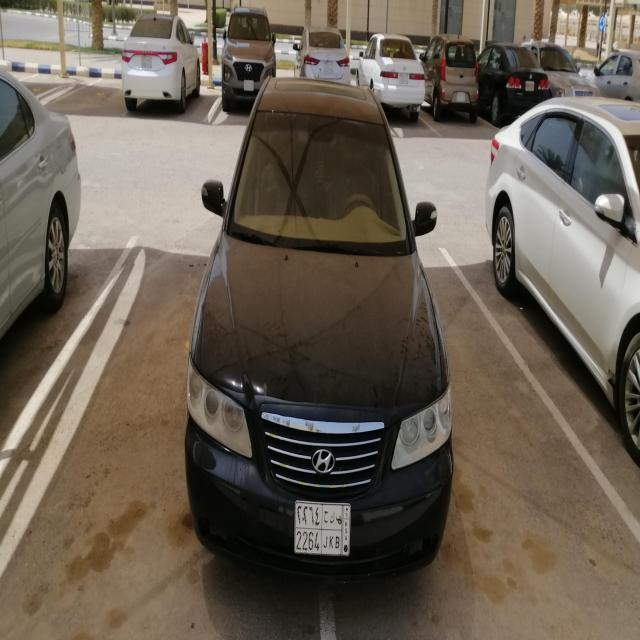license_plate: (292, 499, 351, 562), (243, 80, 254, 92), (141, 56, 152, 68), (399, 73, 409, 85), (456, 92, 466, 102), (324, 62, 333, 73), (525, 81, 534, 91)
